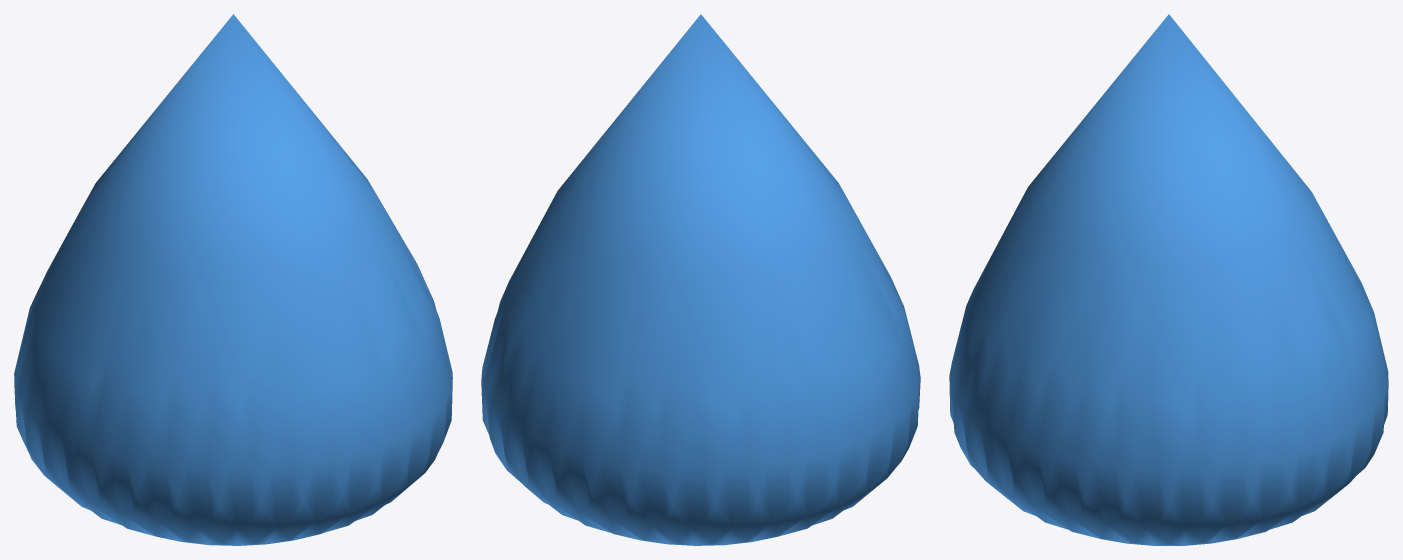
File: woda.gltf
3 views of the same model, side by side, from view 1: azimuth 30°, elevation 25°; view 2: azimuth 150°, elevation 25°; view 3: azimuth 270°, elevation 25° (orthographic).
Parts seen in each view (by area): view 1: Cone; view 2: Cone; view 3: Cone.
Boxes of the visible parts, <box> form: Cone: <box>14,14,452,545</box>; Cone: <box>481,14,920,545</box>; Cone: <box>949,14,1388,545</box>.
Bounding box in the file's own units: 0.4163 × 0.4972 × 0.4163.
Materials: 1 (1 with a texture image).
